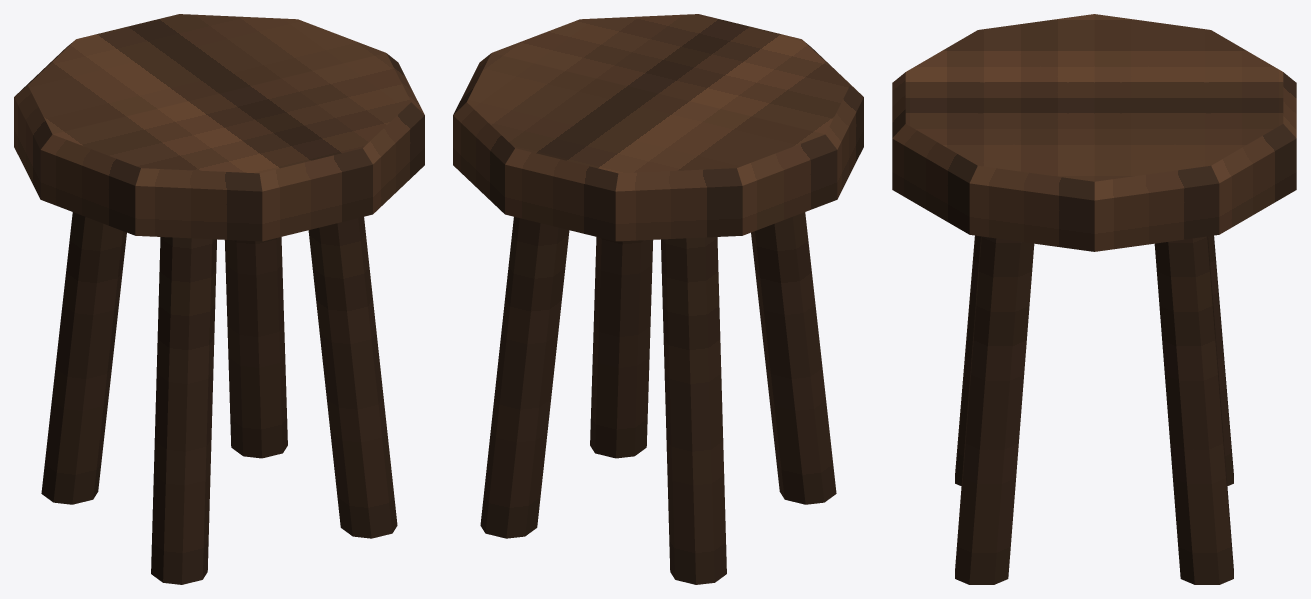
The model's file is MonkStool.glb.
3 views of the same model, side by side, from view 1: azimuth 30°, elevation 25°; view 2: azimuth 150°, elevation 25°; view 3: azimuth 270°, elevation 25° (orthographic). The views are drawn at different scales.
Visible parts, largest first — view 1: MonkStool; view 2: MonkStool; view 3: MonkStool.
Boxes of the visible parts, x1,y1,x2,y2 form: MonkStool: [14, 14, 424, 584]; MonkStool: [453, 14, 863, 584]; MonkStool: [892, 14, 1296, 584].
Bounding box in the file's own units: 0.36 × 0.4 × 0.3424.
1 material, 1 textured.
